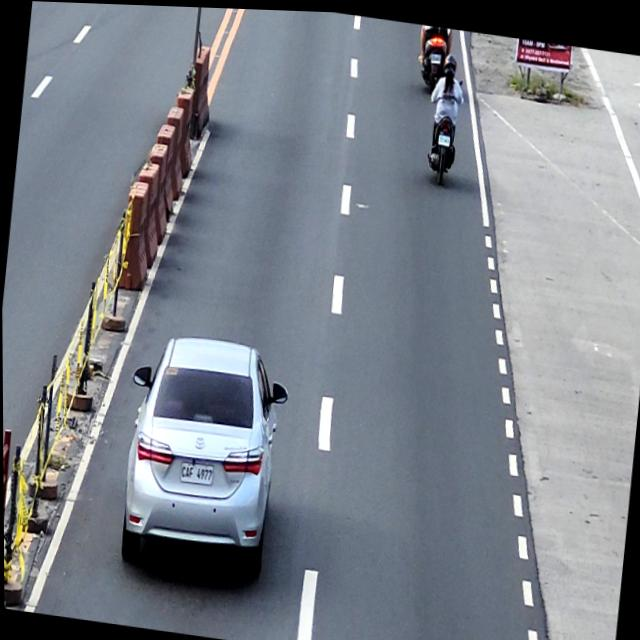Car: (111, 324, 293, 580)
License-Plate: (177, 456, 214, 485), (436, 130, 450, 143), (429, 48, 441, 61)
Motorcycle: (421, 71, 465, 184), (415, 22, 452, 92)
